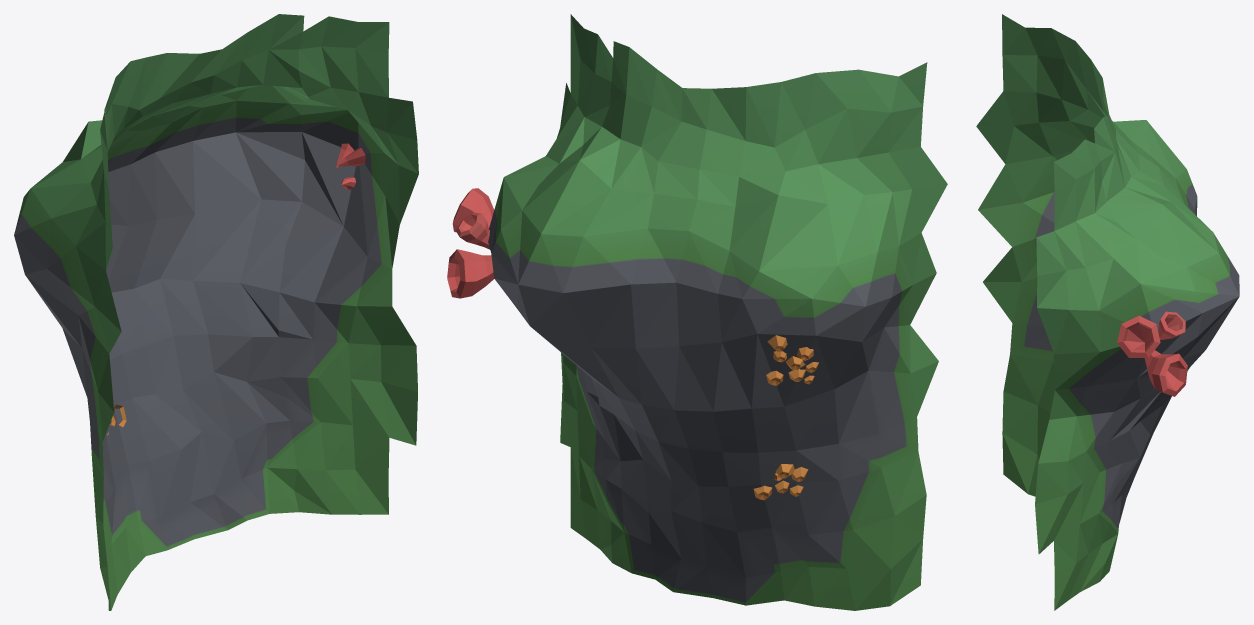
Rendered from Ground_03.FBX.
3 views of the same model, side by side, from view 1: azimuth 30°, elevation 25°; view 2: azimuth 150°, elevation 25°; view 3: azimuth 270°, elevation 25° (orthographic). The views are drawn at different scales.
Visible parts, largest first — view 1: Ground_03; view 2: Ground_03; view 3: Ground_03.
Part boxes in pixels (x1,y1,x2,y2): Ground_03: (14,14,418,610); Ground_03: (447,14,947,610); Ground_03: (976,14,1239,610).
Size of the model in its own units: 11.9 by 15.12 by 7.63.
